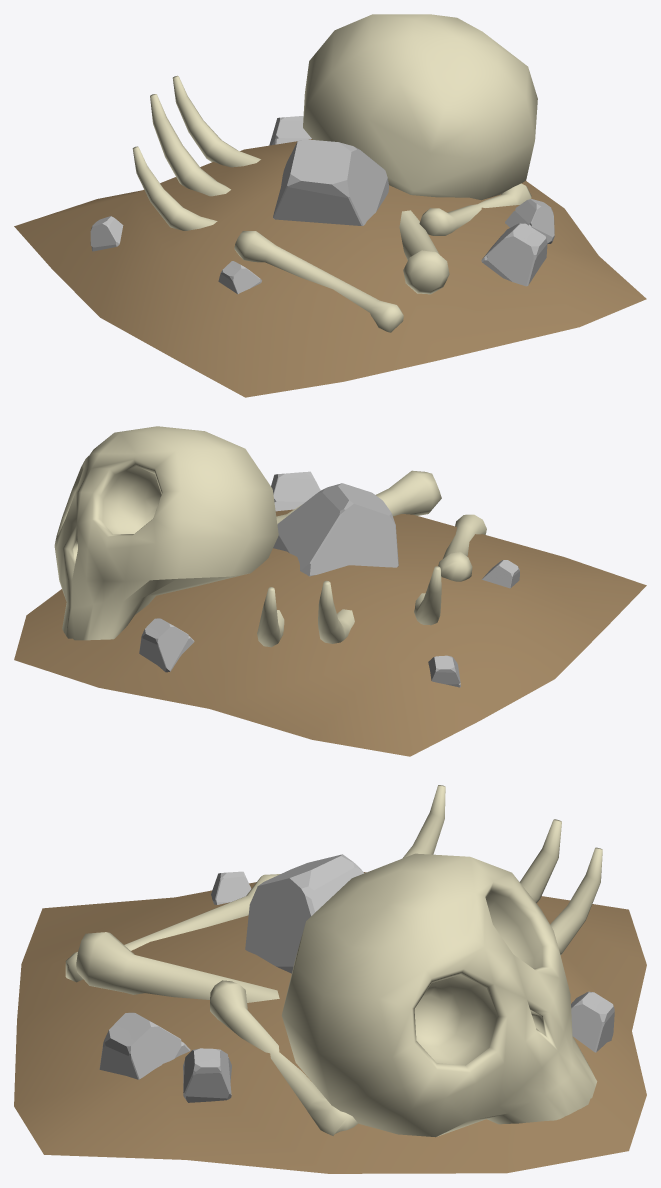
The model's file is BonesBox_5.fbx.
3 renders of one model, top to bottom at view 1: azimuth 30°, elevation 25°; view 2: azimuth 150°, elevation 25°; view 3: azimuth 270°, elevation 25°, orthographic. The views are drawn at different scales.
Visible parts, largest first — view 1: bones.004; view 2: bones.004; view 3: bones.004.
Part boxes in pixels (x1,y1,x2,y2): bones.004: (14, 14, 646, 397); bones.004: (14, 426, 646, 756); bones.004: (14, 785, 646, 1173).
Bounding box in the file's own units: 428 × 167 × 406.
